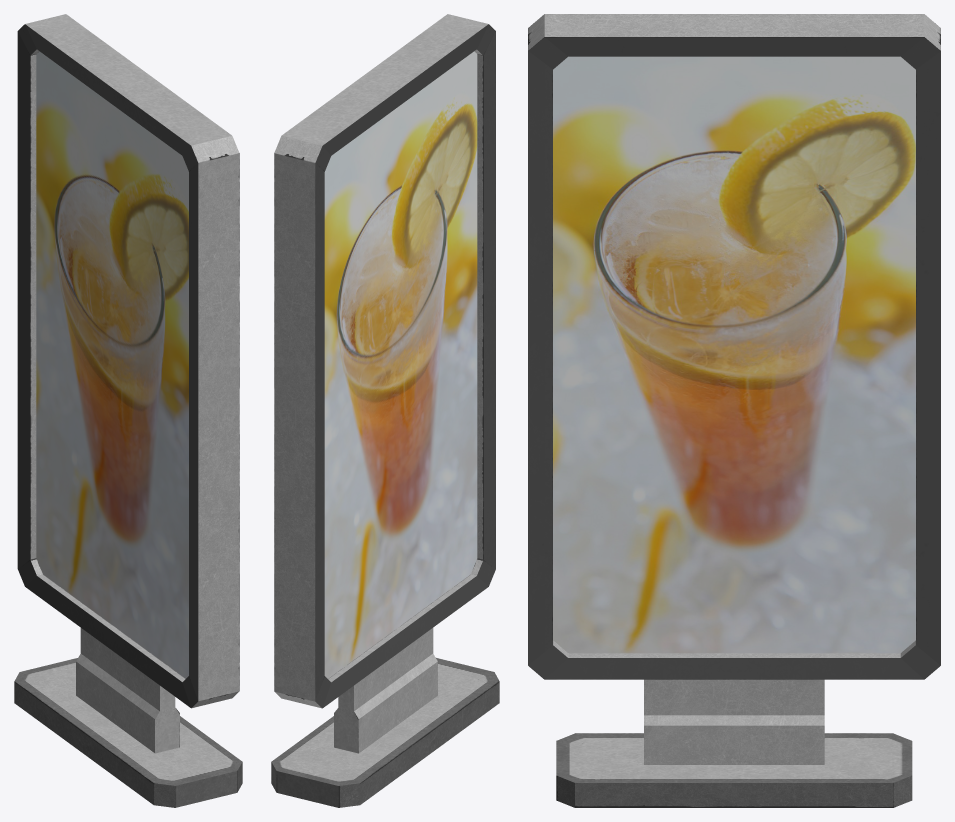
File: Panel03.FBX
3 views of the same model, side by side, from view 1: azimuth 30°, elevation 25°; view 2: azimuth 150°, elevation 25°; view 3: azimuth 270°, elevation 25° (orthographic). The views are drawn at different scales.
Visible parts, largest first — view 1: Panel03; view 2: Panel03; view 3: Panel03.
Boxes of the visible parts, box(x1,y1,x2,y2) form: Panel03: box(14, 14, 242, 807); Panel03: box(271, 14, 499, 807); Panel03: box(528, 14, 940, 807).
Size of the model in its own units: 297 by 2125 by 1049.
